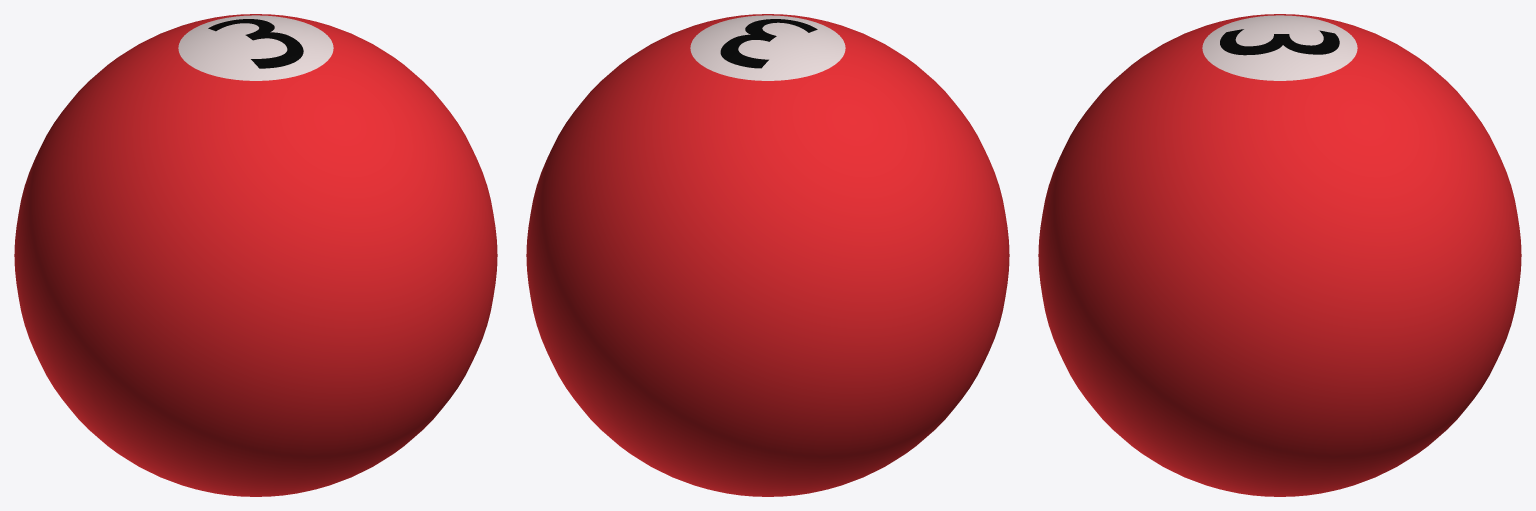
The model's file is threeBall.glb.
The picture shows the model from 3 angles, left to right: view 1: azimuth 30°, elevation 25°; view 2: azimuth 150°, elevation 25°; view 3: azimuth 270°, elevation 25°; orthographic projection.
Parts seen in each view (by area): view 1: Sphere; view 2: Sphere; view 3: Sphere.
Boxes of the visible parts, x1,y1,x2,y2 form: Sphere: (14, 14, 497, 496); Sphere: (526, 14, 1009, 496); Sphere: (1038, 14, 1521, 496).
Bounding box in the file's own units: 0.127 × 0.127 × 0.127.
